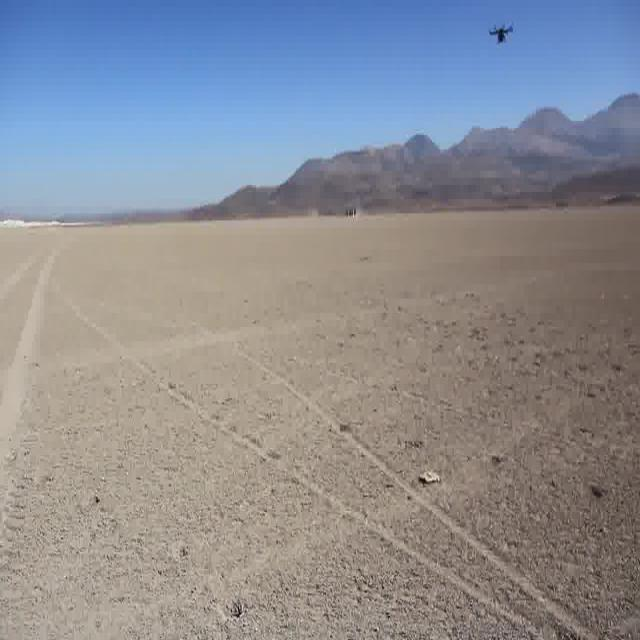drone: (485, 17, 515, 47)
